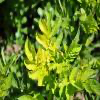Tomato leaf yellow virus: (0, 70, 14, 94), (22, 37, 37, 59), (68, 63, 80, 89), (51, 13, 64, 36), (56, 61, 73, 78), (80, 68, 98, 84), (38, 17, 51, 38), (35, 31, 48, 51), (69, 41, 84, 56), (35, 43, 43, 66)
